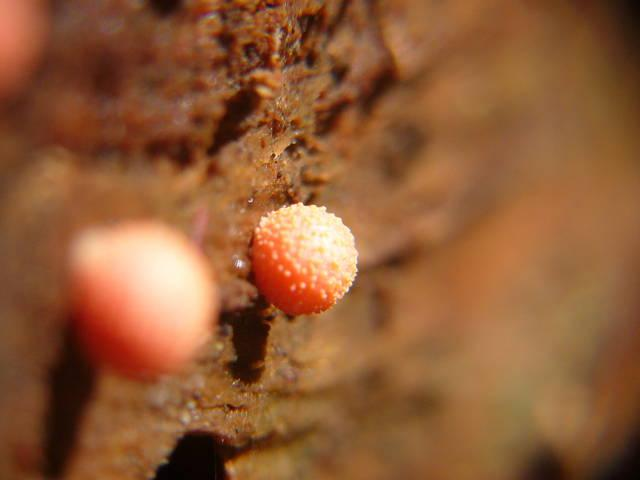Non-edible Mushroom: (65, 217, 221, 379), (249, 201, 359, 317)
